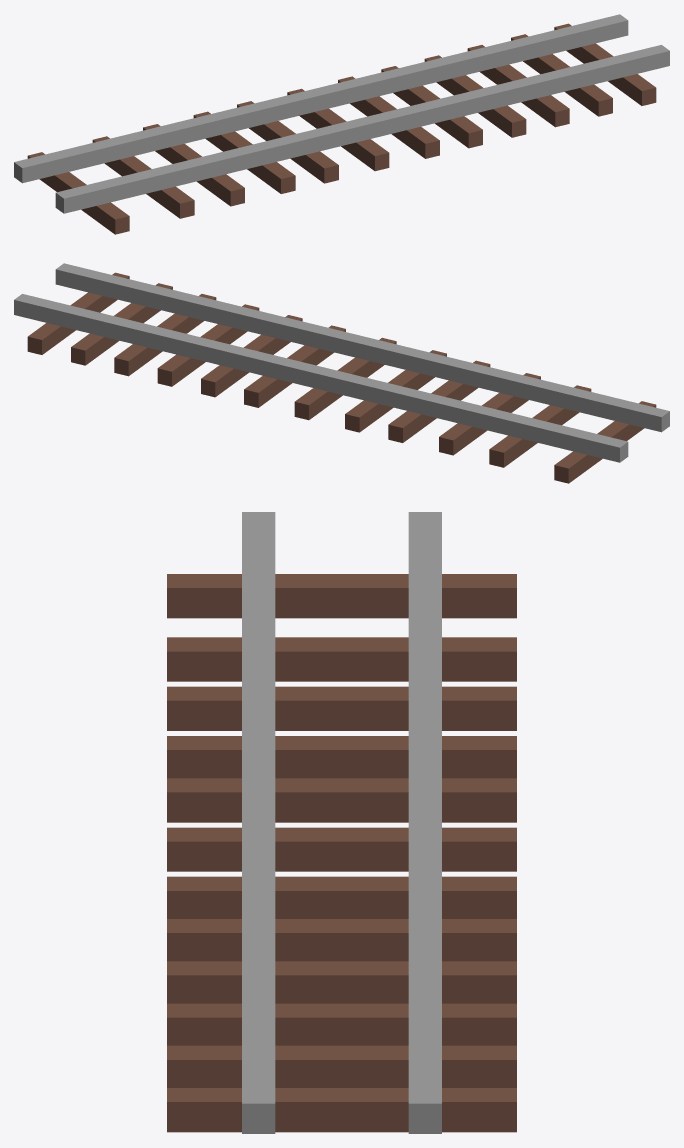
Rendered from covd74kLslj.glb.
3 views of the same model, one above another, from view 1: azimuth 30°, elevation 25°; view 2: azimuth 150°, elevation 25°; view 3: azimuth 270°, elevation 25° (orthographic). The views are drawn at different scales.
Visible parts, largest first — view 1: group1953912944; view 2: group1953912944; view 3: group1953912944.
Part boxes in pixels (x1=…): group1953912944: x1=14, y1=14, x2=669, y2=234; group1953912944: x1=14, y1=263, x2=669, y2=483; group1953912944: x1=167, y1=512, x2=516, y2=1133.
Bounding box in the file's own units: 0.84 × 0.04 × 0.21.
